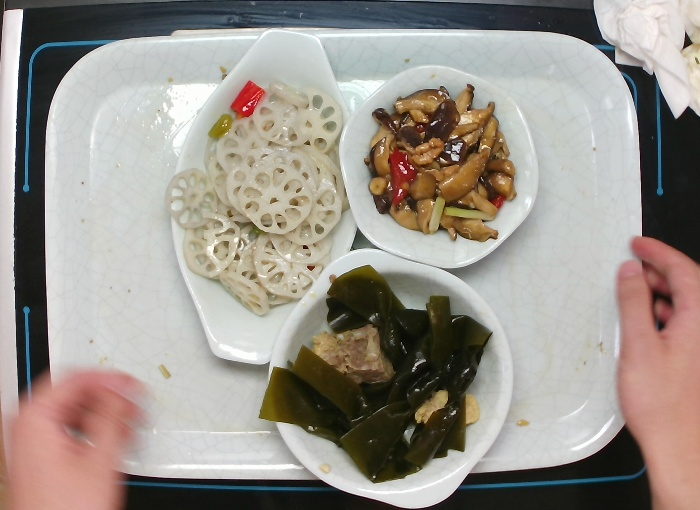JYsf-Shuang_Er_Wan: (256, 250, 512, 509)
JYsf-Yu_Pan: (163, 24, 358, 368)
WCQzf-Hua_Duo_Wan: (336, 61, 545, 271)
